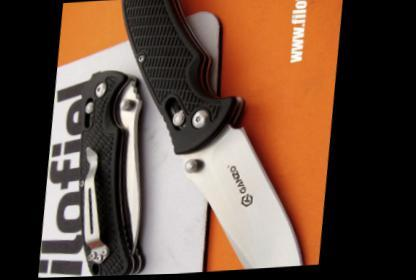knife: (162, 113, 334, 273)
